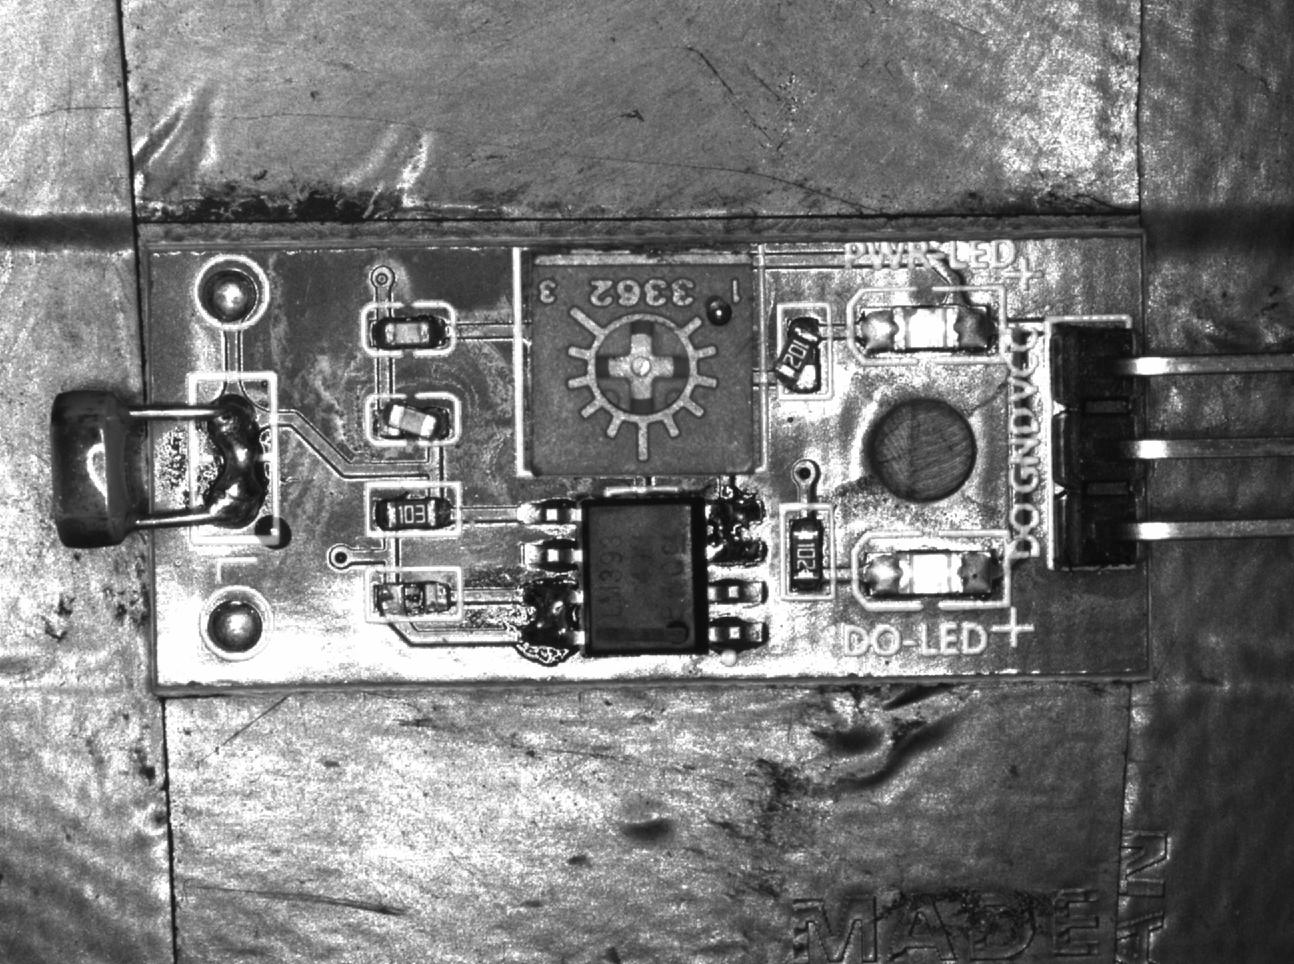bridge: (186, 370, 284, 540), (703, 488, 766, 566), (516, 585, 578, 659)
lifted: (775, 305, 832, 399), (362, 393, 459, 444)
miss: (365, 568, 459, 621)
ok: (781, 503, 834, 599), (363, 303, 454, 356), (367, 483, 458, 536)
